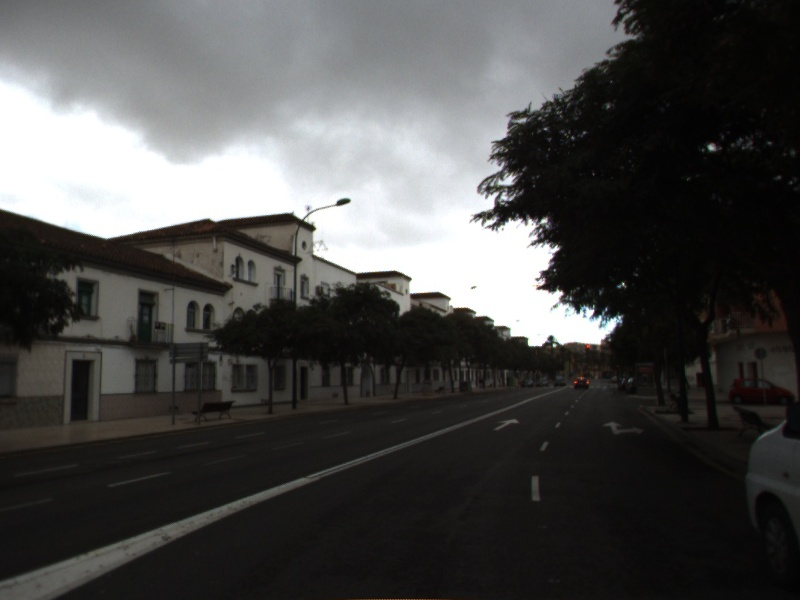STRAIGHT: (492, 417, 522, 432)
STRAIGHT_RIGHT: (602, 419, 646, 436)
